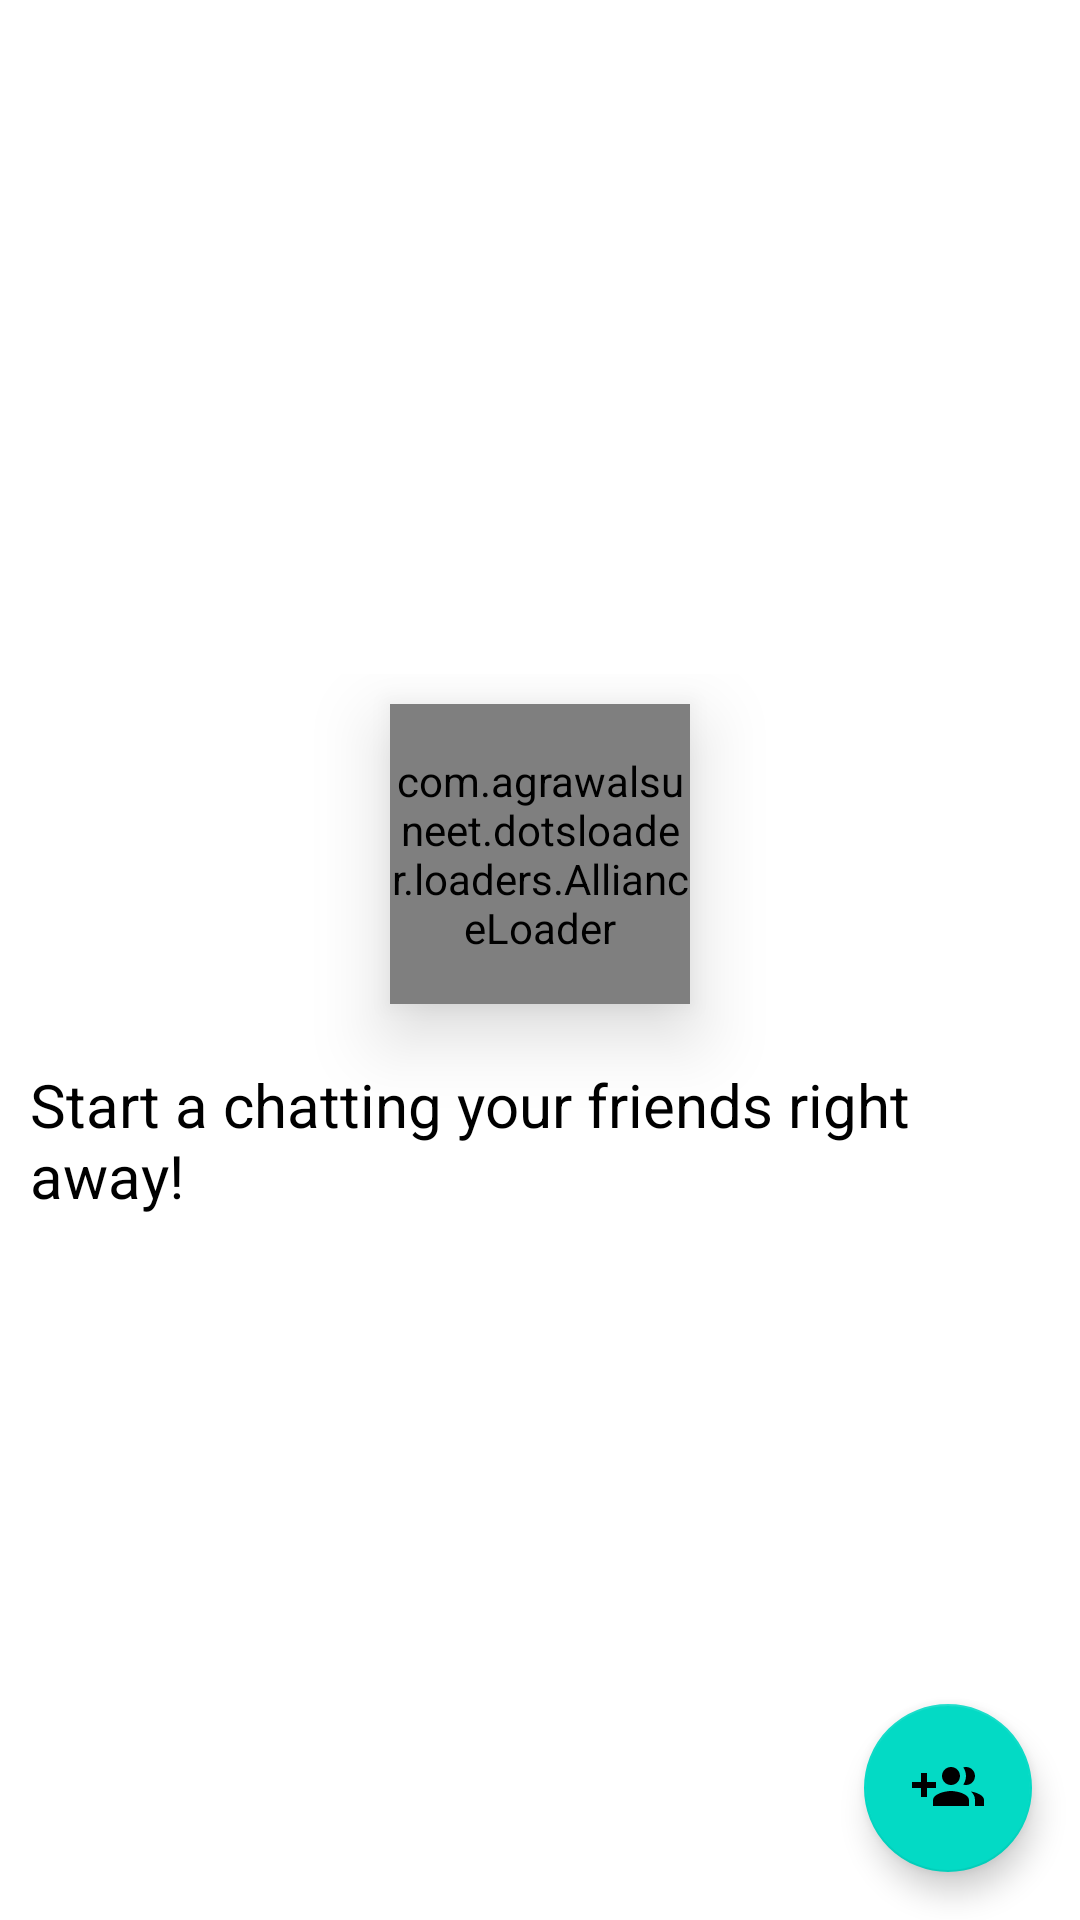

Locate icon controls on the screen. Image size 1080×1920, boxes as bbox(x1, y1, x2, y2).
make group: bbox(864, 1704, 1032, 1872)
